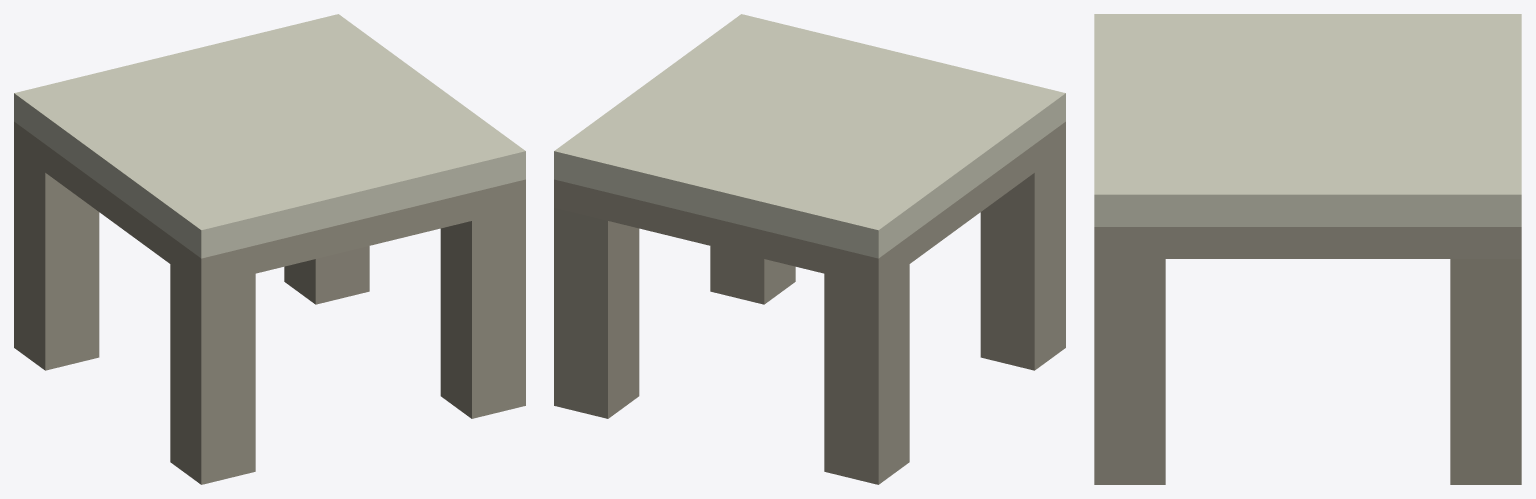
The model's file is mesa_ensacado_desgastada_01.glb.
3 renders of one model, left to right at view 1: azimuth 30°, elevation 25°; view 2: azimuth 150°, elevation 25°; view 3: azimuth 270°, elevation 25°, orthographic. The views are drawn at different scales.
Parts seen in each view (by area): view 1: mesa_ensacado_desgastada; view 2: mesa_ensacado_desgastada; view 3: mesa_ensacado_desgastada.
Part boxes in pixels (left/top/right/bottom): mesa_ensacado_desgastada: left=14, top=14, right=525, bottom=484; mesa_ensacado_desgastada: left=554, top=14, right=1065, bottom=484; mesa_ensacado_desgastada: left=1094, top=14, right=1521, bottom=484.
Size of the model in its own units: 1 by 0.75 by 1.
